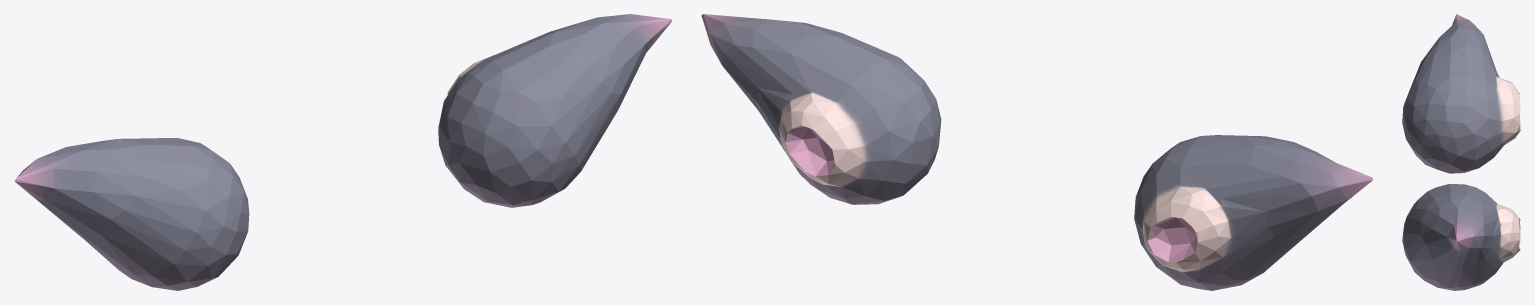
File: blob_eye.dae
The picture shows the model from 3 angles, left to right: view 1: azimuth 30°, elevation 25°; view 2: azimuth 150°, elevation 25°; view 3: azimuth 270°, elevation 25°; orthographic projection. The views are drawn at different scales.
Visible parts, largest first — view 1: blob_eye.002; view 2: blob_eye.002; view 3: blob_eye.002.
Part boxes in pixels (x1,y1,x2,y2): blob_eye.002: [14, 14, 672, 290]; blob_eye.002: [701, 14, 1373, 290]; blob_eye.002: [1402, 14, 1520, 290].
Size of the model in its own units: 1.94 by 0.4287 by 0.4346.
1 material, 1 textured.
